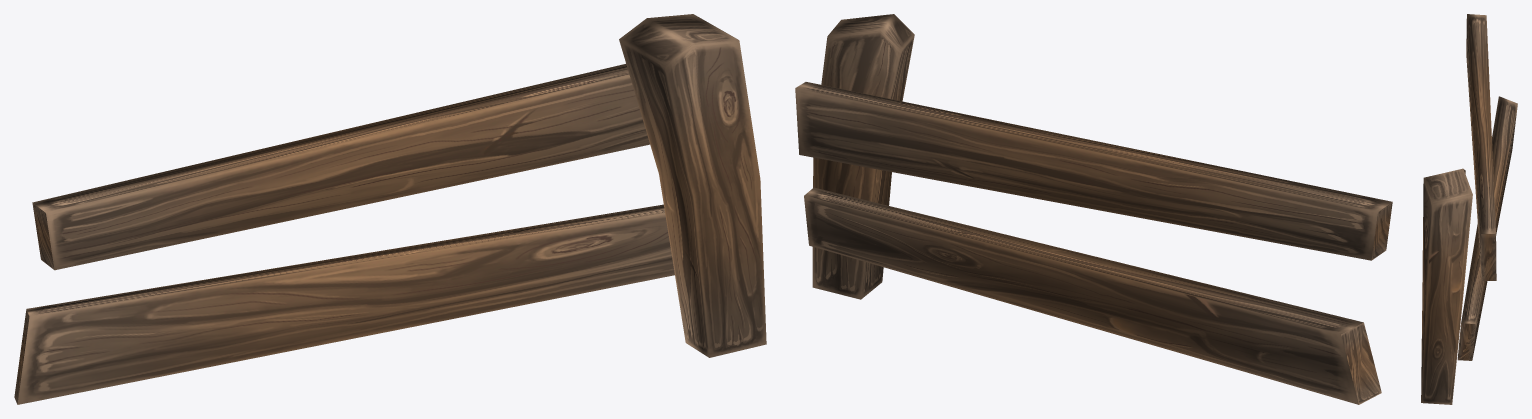
Rendered from fenceWoodShortB.fbx.
3 views of the same model, side by side, from view 1: azimuth 30°, elevation 25°; view 2: azimuth 150°, elevation 25°; view 3: azimuth 270°, elevation 25° (orthographic). The views are drawn at different scales.
Visible parts, largest first — view 1: fenceWoodShortB; view 2: fenceWoodShortB; view 3: fenceWoodShortB.
Boxes of the visible parts, left/top/right/bottom form: fenceWoodShortB: left=14, top=14, right=766, bottom=404; fenceWoodShortB: left=795, top=14, right=1392, bottom=404; fenceWoodShortB: left=1421, top=14, right=1517, bottom=404.
Bounding box in the file's own units: 283 × 127 × 53.4.
